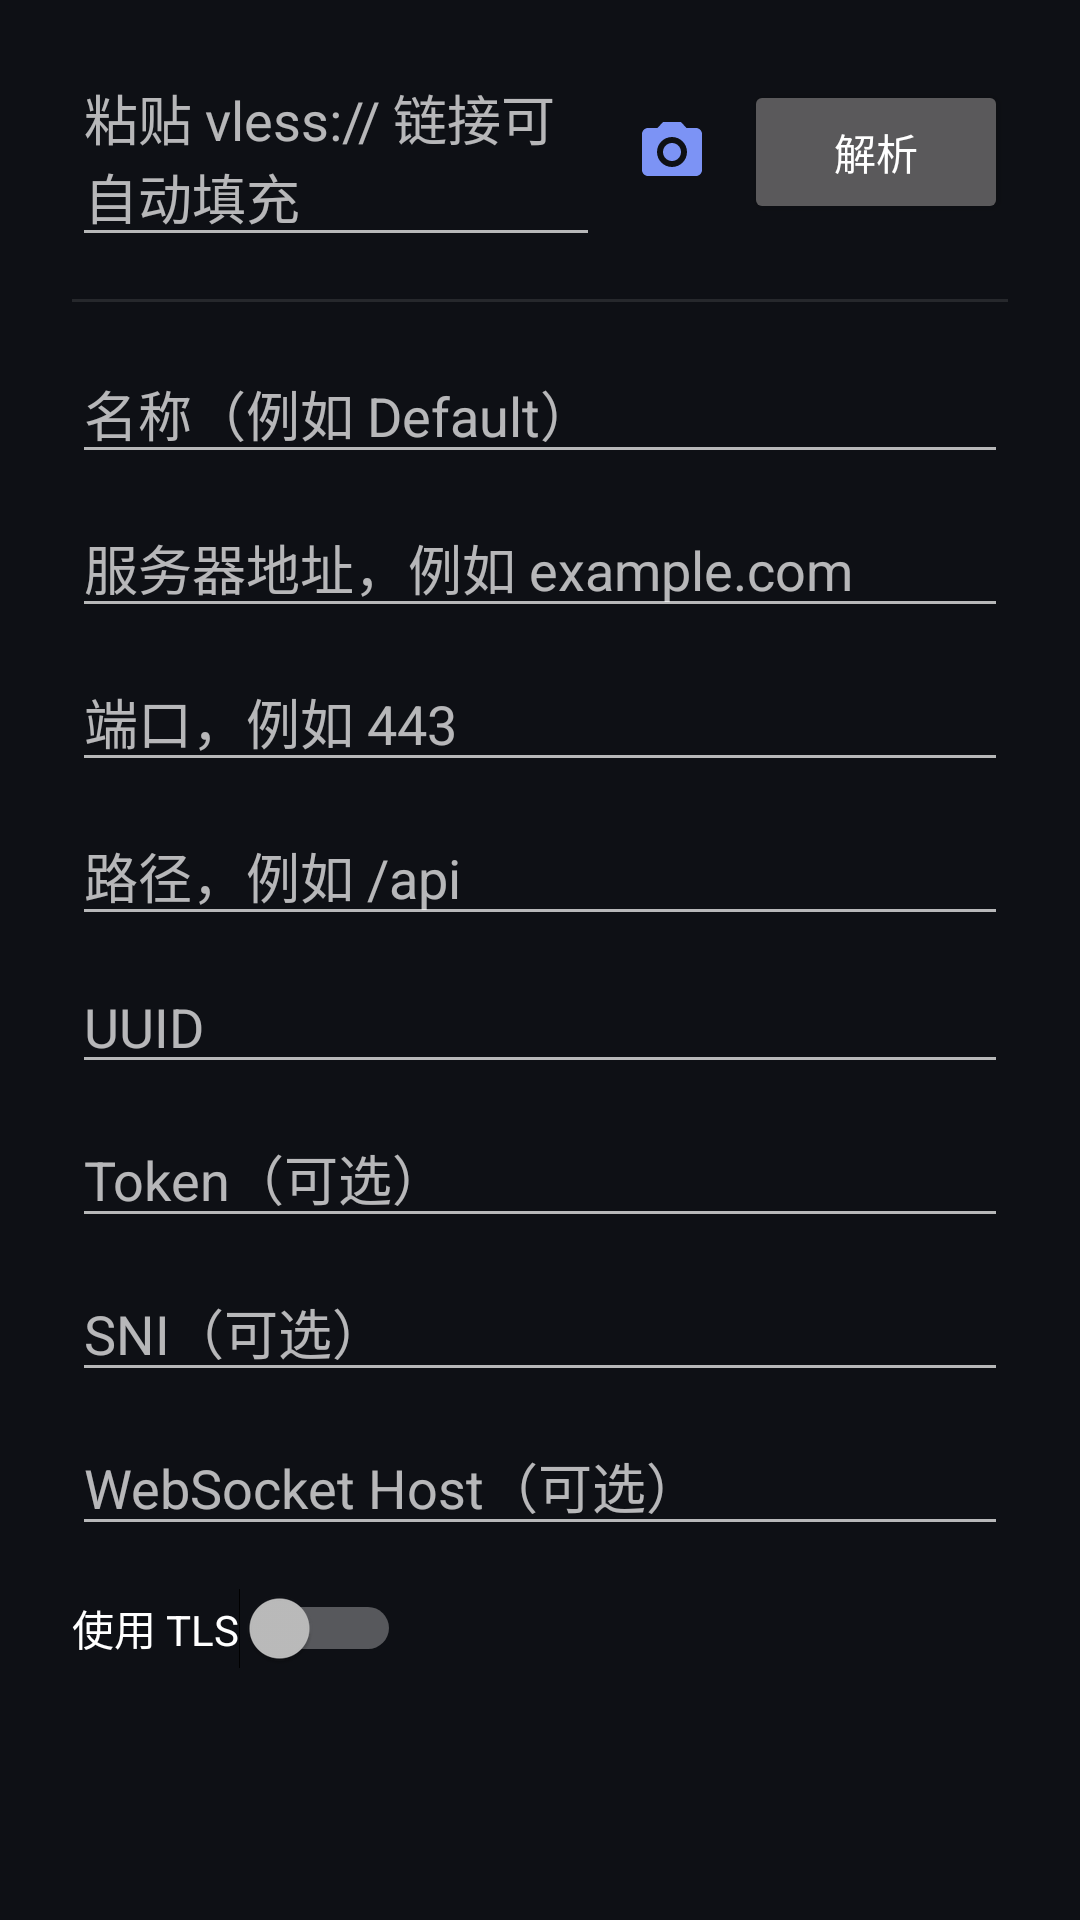

Point at icon controls on the screen. Image size 1080 × 1920, points as point (x, y).
Scan QR code: point (672, 149)
